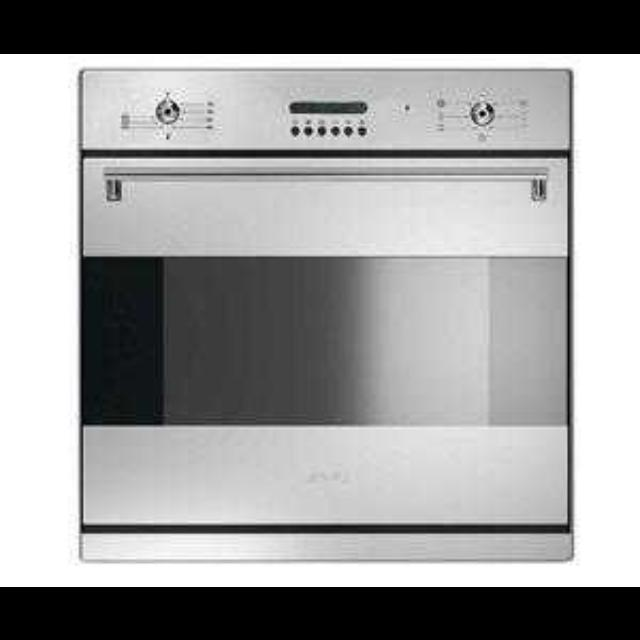Oven: (76, 64, 576, 536)
